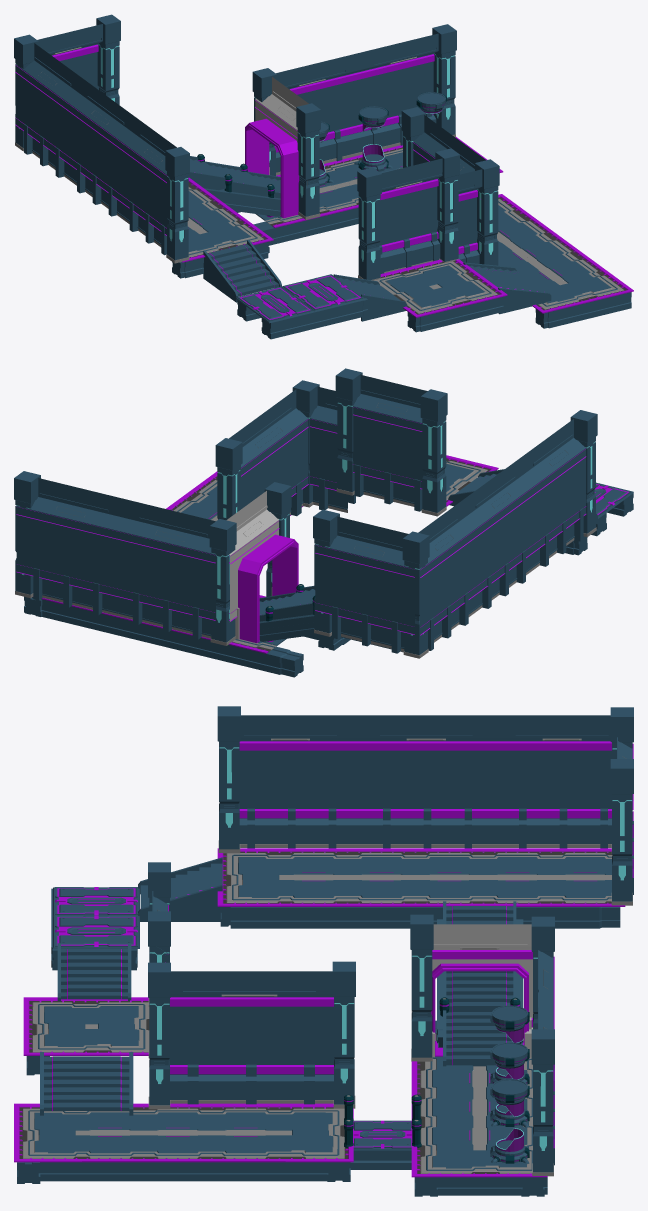
File: new_room.glb
3 renders of one model, top to bottom at view 1: azimuth 30°, elevation 25°; view 2: azimuth 150°, elevation 25°; view 3: azimuth 270°, elevation 25°, orthographic. The views are drawn at different scales.
Visible parts, largest first — view 1: Plane.011, Plane.005, Plane.014, Plane.006, Plane.010, Plane.004, Plane.312, Plane.003, Plane.016, Plane.044, Plane.019, Plane.015 (+39 smaller); view 2: Plane.010, Plane.011, Plane.007, Plane.014, Plane.005, Plane.004, Plane.006, Plane.312, Plane.111, Plane.049, Plane.040, Plane.016 (+17 smaller); view 3: Plane.111, Plane.005, Plane.004, Plane.006, Plane.054, Plane.312, Plane.051, Plane.319, Plane.001, Plane.034, Plane.035, Plane.032 (+43 smaller).
Boxes of the visible parts, box(x1,y1,x2,y2) form: Plane.011: box(355, 33, 438, 155); Plane.005: box(68, 76, 131, 221); Plane.014: box(379, 158, 442, 273); Plane.006: box(15, 43, 78, 182); Plane.010: box(274, 52, 360, 175); Plane.004: box(121, 114, 176, 255); Plane.312: box(245, 77, 308, 218); Plane.003: box(203, 239, 281, 302); Plane.016: box(357, 167, 381, 280); Plane.044: box(296, 103, 320, 219); Plane.019: box(165, 147, 189, 263); Plane.015: box(435, 148, 459, 262); Plane.010: box(116, 498, 215, 639); Plane.011: box(16, 478, 122, 616); Plane.007: box(315, 516, 414, 653); Plane.014: box(337, 375, 427, 511); Plane.005: box(466, 456, 535, 614); Plane.004: box(523, 419, 586, 572); Plane.006: box(418, 498, 477, 650); Plane.312: box(226, 491, 298, 643); Plane.111: box(229, 389, 308, 516); Plane.049: box(24, 596, 303, 677); Plane.040: box(309, 386, 347, 512); Plane.016: box(420, 389, 447, 516); Plane.111: box(169, 971, 334, 1104); Plane.005: box(360, 715, 495, 848); Plane.004: box(239, 715, 359, 848); Plane.006: box(495, 715, 611, 848); Plane.054: box(230, 907, 620, 928); Plane.312: box(411, 924, 533, 1057); Plane.051: box(38, 1162, 328, 1181); Plane.319: box(40, 1052, 133, 1115); Plane.001: box(217, 1103, 285, 1162); Plane.034: box(353, 848, 421, 906); Plane.035: box(285, 848, 353, 906); Plane.032: box(489, 848, 557, 906).
Size of the model in its own units: 12.38 by 5.45 by 12.78.
